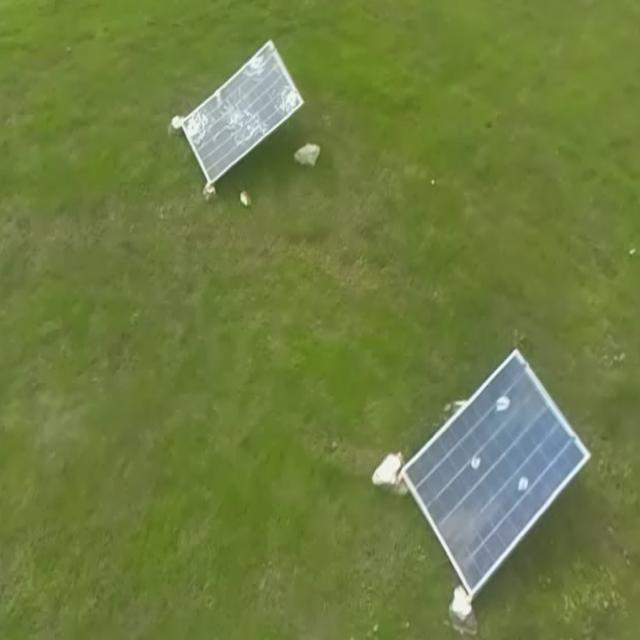Bird-drop: (493, 388, 514, 418), (514, 472, 531, 493), (468, 451, 482, 471)
Physical-damage: (228, 107, 264, 140), (186, 109, 214, 148), (276, 87, 295, 111), (244, 55, 267, 74)
